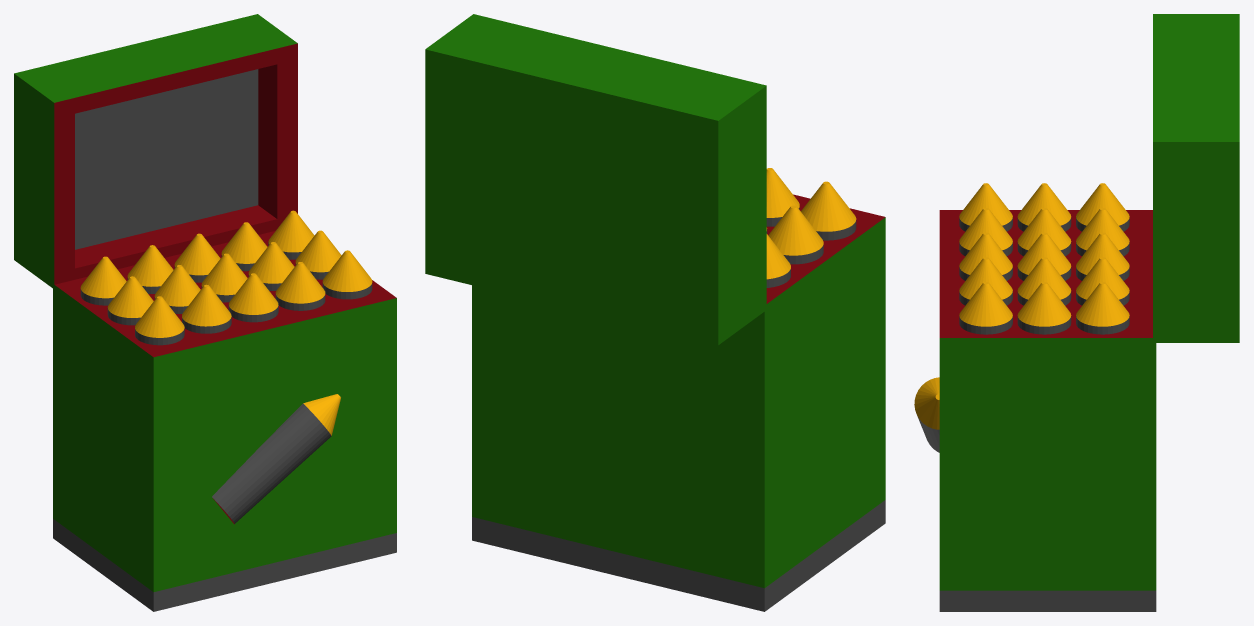
Rendered from NormalAmmo.fbx.
The picture shows the model from 3 angles, left to right: view 1: azimuth 30°, elevation 25°; view 2: azimuth 150°, elevation 25°; view 3: azimuth 270°, elevation 25°; orthographic projection. The views are drawn at different scales.
Visible parts, largest first — view 1: Cylinder.013; view 2: Cylinder.013; view 3: Cylinder.013.
Boxes of the visible parts, x1,y1,x2,y2 form: Cylinder.013: (14,14,396,611); Cylinder.013: (425,14,885,611); Cylinder.013: (914,14,1239,611).
Bounding box in the file's own units: 31.15 × 53.31 × 33.42.
